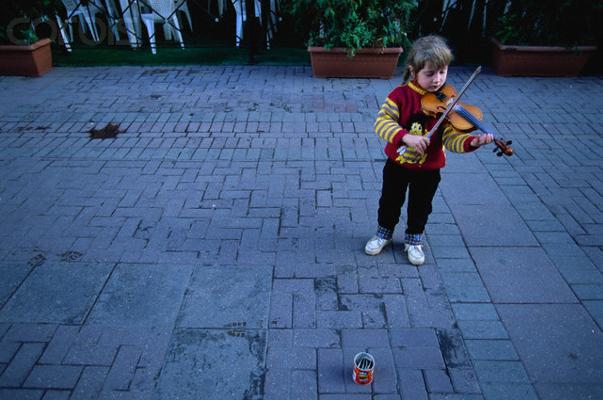person: (366, 35, 494, 266)
